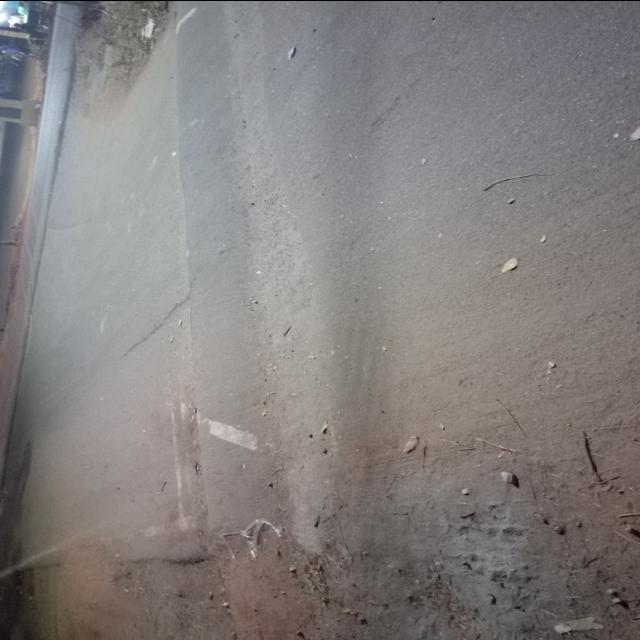Speed_Breaker: (175, 0, 310, 640), (165, 0, 291, 544)
